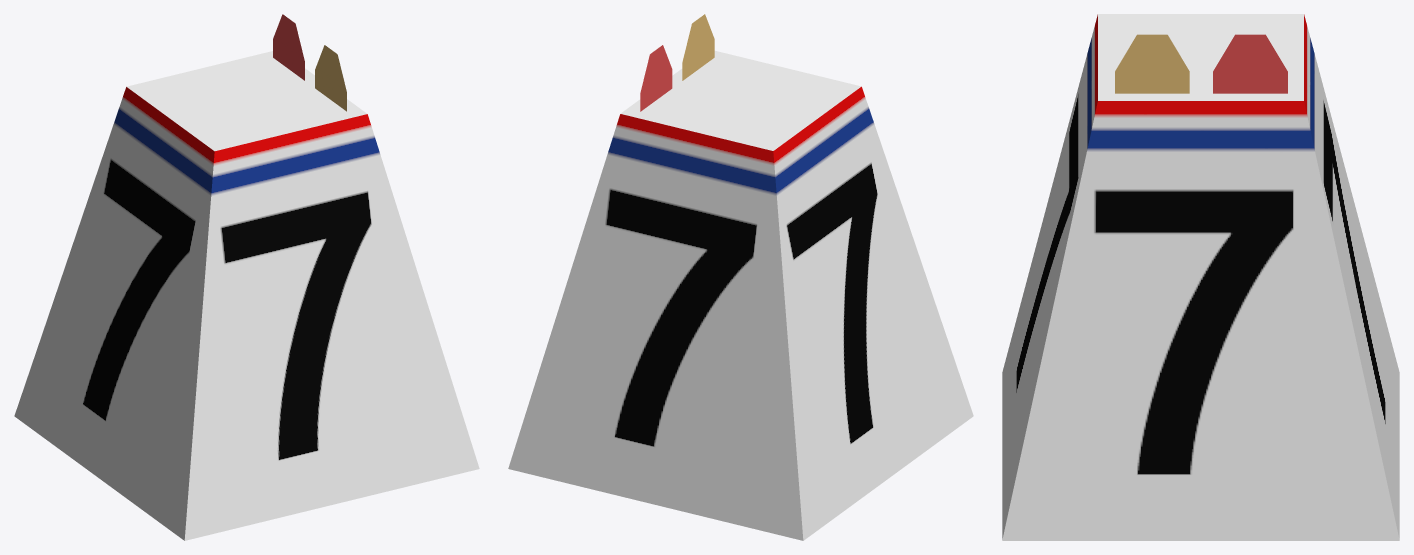
Rendered from Marker_Line7.FBX.
3 renders of one model, left to right at view 1: azimuth 30°, elevation 25°; view 2: azimuth 150°, elevation 25°; view 3: azimuth 270°, elevation 25°, orthographic. The views are drawn at different scales.
Visible parts, largest first — view 1: Marker_Line7; view 2: Marker_Line7; view 3: Marker_Line7.
Boxes of the visible parts, x1,y1,x2,y2 form: Marker_Line7: (14,14,479,540); Marker_Line7: (508,14,973,540); Marker_Line7: (1002,14,1399,540).
Size of the model in its own units: 6.76 by 8.6 by 6.76.
